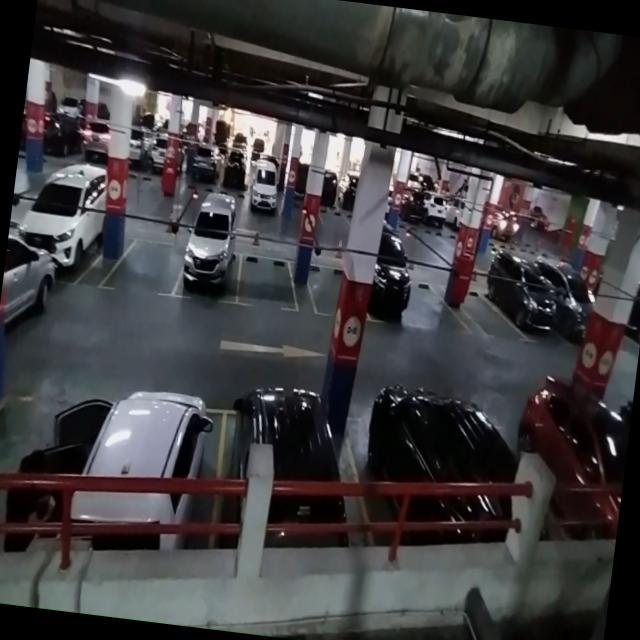empty: (98, 233, 184, 300), (234, 249, 304, 314), (303, 262, 345, 319)
occupied: (65, 390, 228, 551), (209, 399, 359, 565), (37, 174, 109, 288), (171, 217, 246, 307)
